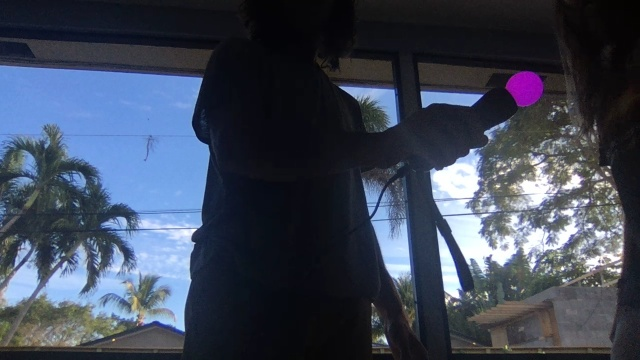wand: (505, 72, 542, 108)
